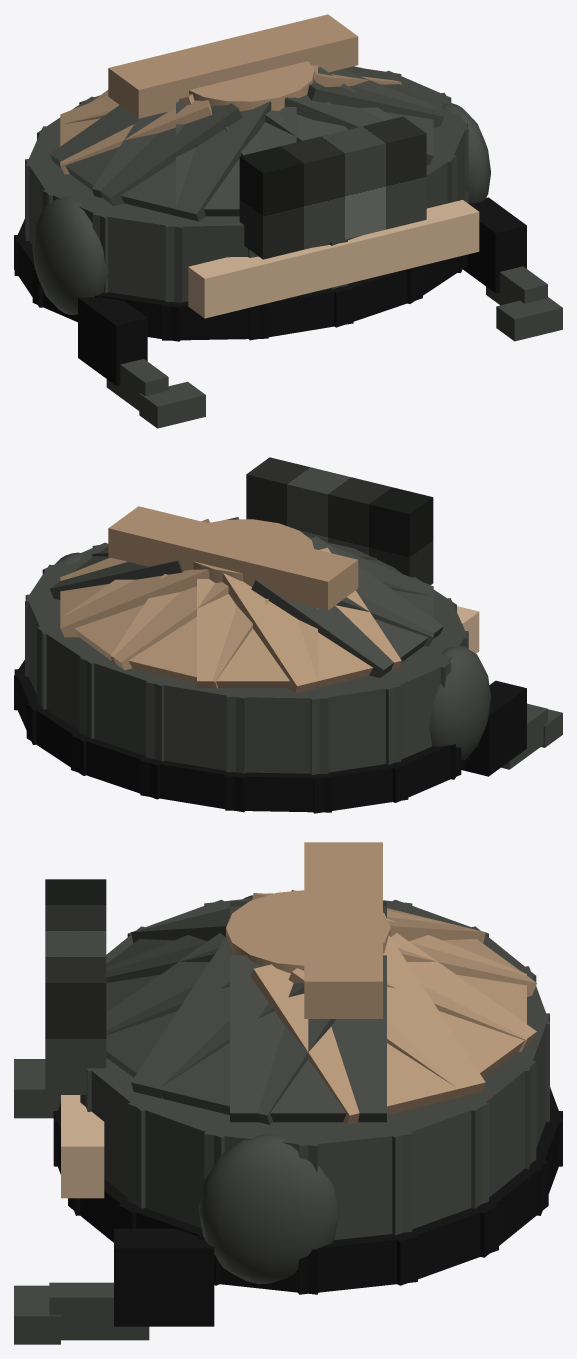
The model's file is CMU3DAU14LACNHelmetSLWorldCloud.glb.
3 views of the same model, one above another, from view 1: azimuth 30°, elevation 25°; view 2: azimuth 150°, elevation 25°; view 3: azimuth 270°, elevation 25° (orthographic). The views are drawn at different scales.
Parts seen in each view (by area): view 1: original leader front marking, leader pale lower brow band, leader tan crown reinforcement, joined roof facet 07, joined roof facet 06, left joined side guard, continuous joined lower shell 09, left front strap anchor, continuous joined lower shell 10, right front strap anchor, joined center crown cap, continuous dark rim 11 (+24 smaller); view 2: original leader front marking, leader tan crown reinforcement, continuous joined lower shell 05, joined roof facet 05, continuous joined lower shell 04, continuous joined lower shell 06, joined roof facet 06, continuous joined lower shell 03, joined roof facet 04, left joined side guard, joined roof facet 02, joined roof facet 03 (+23 smaller); view 3: right joined side guard, leader tan crown reinforcement, joined roof facet 00, joined roof facet 01, original leader front marking, joined roof facet 11, right front strap anchor, continuous joined lower shell 00, continuous joined lower shell 01, continuous joined lower shell 14, joined roof facet 02, continuous joined lower shell 02 (+23 smaller).
Part boxes in pixels (left/top/right/bottom): original leader front marking: left=239, top=116, right=426, bottom=259; leader pale lower brow band: left=188, top=200, right=479, bottom=318; leader tan crown reinforcement: left=108, top=14, right=358, bottom=118; joined roof facet 07: left=92, top=101, right=271, bottom=221; joined roof facet 06: left=50, top=103, right=242, bottom=205; left joined side guard: left=32, top=196, right=108, bottom=314; continuous joined lower shell 09: left=92, top=206, right=188, bottom=302; left front strap anchor: left=78, top=297, right=147, bottom=385; continuous joined lower shell 10: left=164, top=214, right=258, bottom=301; right front strap anchor: left=463, top=197, right=526, bottom=293; joined center crown cap: left=189, top=61, right=314, bottom=111; continuous dark rim 11: left=248, top=284, right=353, bottom=340; original leader front marking: left=246, top=457, right=433, bottom=584; leader tan crown reinforcement: left=108, top=506, right=358, bottom=610; continuous joined lower shell 05: left=226, top=685, right=329, bottom=773; joined roof facet 05: left=222, top=547, right=401, bottom=693; continuous joined lower shell 04: left=146, top=673, right=253, bottom=773; continuous joined lower shell 06: left=306, top=672, right=401, bottom=774; joined roof facet 06: left=251, top=536, right=443, bottom=677; continuous joined lower shell 03: left=79, top=649, right=175, bottom=761; joined roof facet 04: left=197, top=579, right=317, bottom=687; left joined side guard: left=429, top=645, right=490, bottom=759; joined roof facet 02: left=63, top=579, right=228, bottom=670; joined roof facet 03: left=110, top=574, right=268, bottom=688; right joined side guard: left=198, top=1134, right=339, bottom=1284; leader tan crown reinforcement: left=304, top=842, right=382, bottom=1018; joined roof facet 00: left=230, top=955, right=386, bottom=1122; joined roof facet 01: left=251, top=935, right=485, bottom=1124; original leader front marking: left=45, top=879, right=106, bottom=1094; joined roof facet 11: left=131, top=935, right=336, bottom=1124; right front strap anchor: left=114, top=1228, right=214, bottom=1326; continuous joined lower shell 00: left=286, top=1112, right=412, bottom=1240; continuous joined lower shell 01: left=366, top=1095, right=488, bottom=1235; continuous joined lower shell 14: left=127, top=1095, right=251, bottom=1228; joined roof facet 02: left=288, top=933, right=536, bottom=1098; continuous joined lower shell 02: left=445, top=1056, right=536, bottom=1208.
Bounding box in the file's own units: 0.334 × 0.171 × 0.2797.
5 materials, 1 textured.
